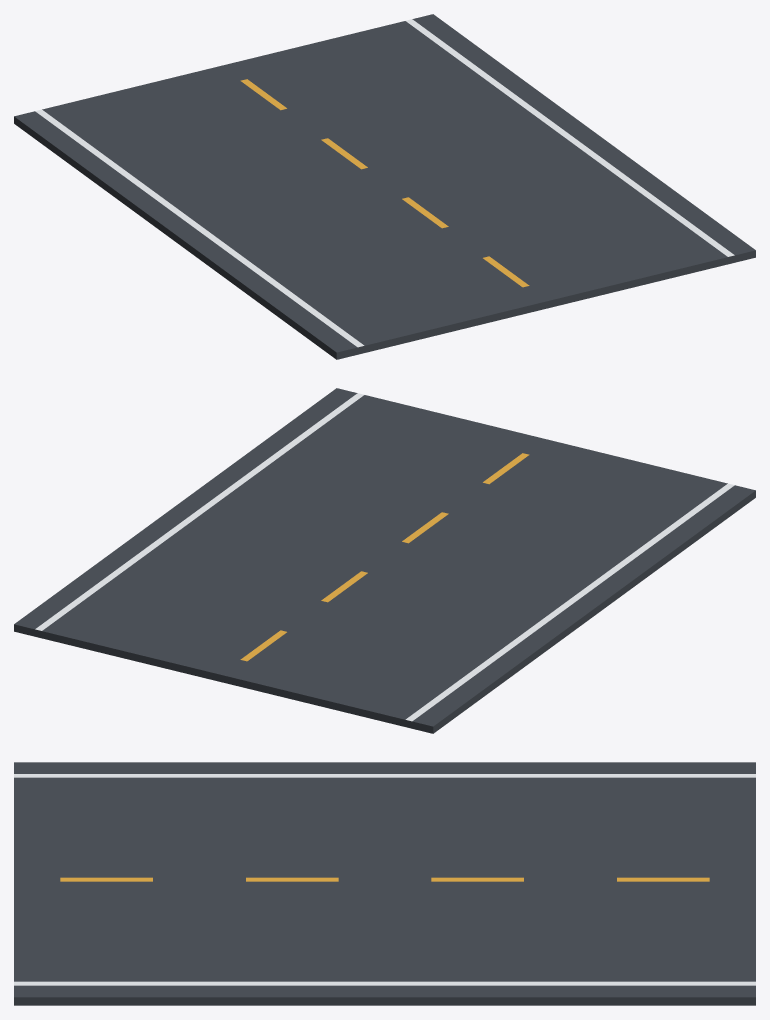
Rendered from CM_Road_Straight.fbx.
3 renders of one model, top to bottom at view 1: azimuth 30°, elevation 25°; view 2: azimuth 150°, elevation 25°; view 3: azimuth 270°, elevation 25°, orthographic. The views are drawn at different scales.
Visible parts, largest first — view 1: Road; view 2: Road; view 3: Road.
Boxes of the visible parts, x1=… form: Road: x1=14, y1=14, x2=755, y2=359; Road: x1=14, y1=388, x2=755, y2=733; Road: x1=14, y1=762, x2=755, y2=1005.
Bounding box in the file's own units: 24 × 32 × 0.403.
Materials: 1 (1 with a texture image).
